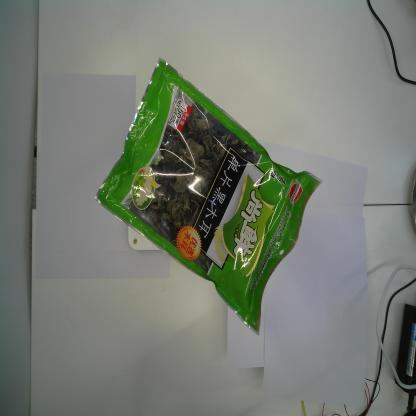Dried Food: (93, 54, 324, 340)
